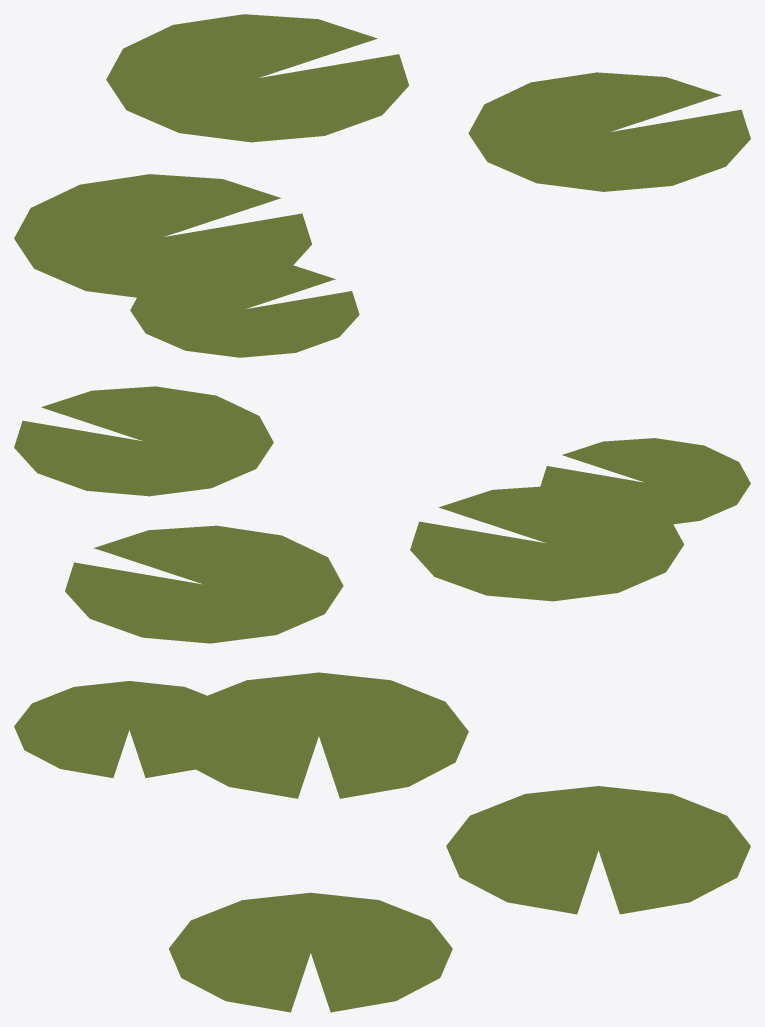
File: lily.glb
The picture shows the model from 3 angles, top to bottom: view 1: azimuth 30°, elevation 25°; view 2: azimuth 150°, elevation 25°; view 3: azimuth 270°, elevation 25°; orthographic projection. The views are drawn at different scales.
Parts seen in each view (by area): view 1: lily; view 2: lily; view 3: lily.
Boxes of the visible parts, x1,y1,x2,y2 form: lily: (14,14,750,357); lily: (14,386,750,643); lily: (14,672,750,1012).
Bounding box in the file's own units: 1.5 × 0 × 1.38.
